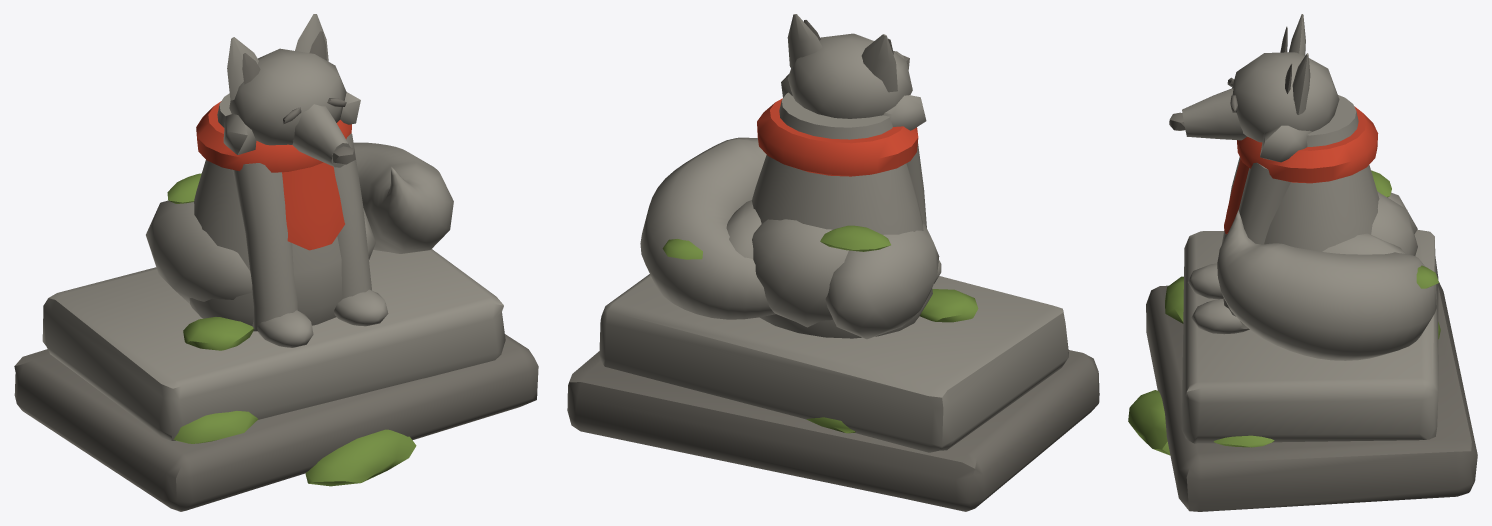
The model's file is fox_statue.glb.
3 renders of one model, left to right at view 1: azimuth 30°, elevation 25°; view 2: azimuth 150°, elevation 25°; view 3: azimuth 270°, elevation 25°, orthographic. The views are drawn at different scales.
Visible parts, largest first — view 1: fox_statue; view 2: fox_statue; view 3: fox_statue.
Boxes of the visible parts, bbox=[...] form: fox_statue: bbox=[14, 14, 538, 511]; fox_statue: bbox=[567, 14, 1099, 511]; fox_statue: bbox=[1128, 14, 1477, 511].
Size of what is drawn, in the model's own units: 0.8804 by 0.8175 by 0.66.
